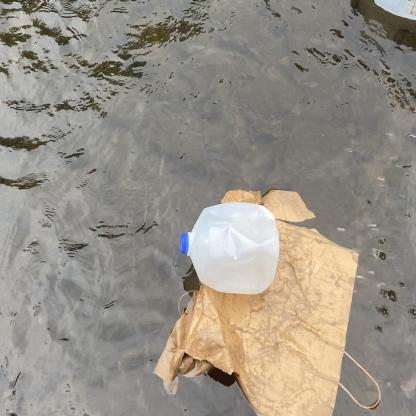trash: (149, 181, 393, 416), (175, 197, 281, 300), (368, 0, 416, 28)
